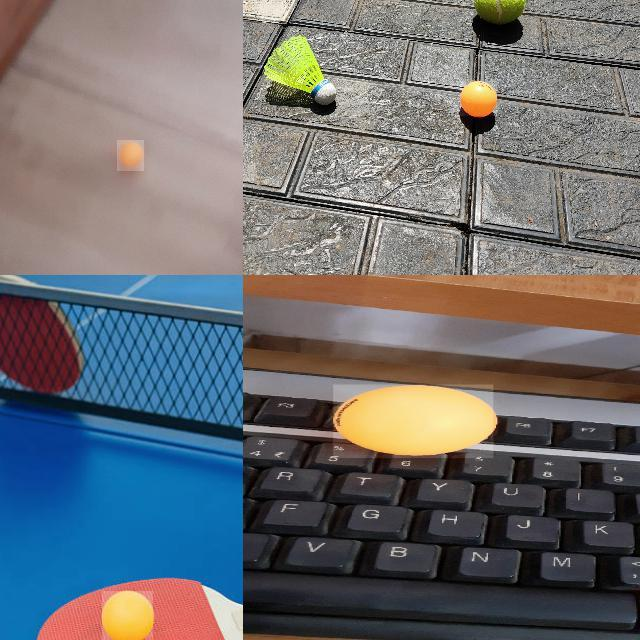ping-pong-ball: (333, 384, 494, 458), (102, 591, 155, 639), (460, 81, 498, 117), (117, 140, 145, 172)
